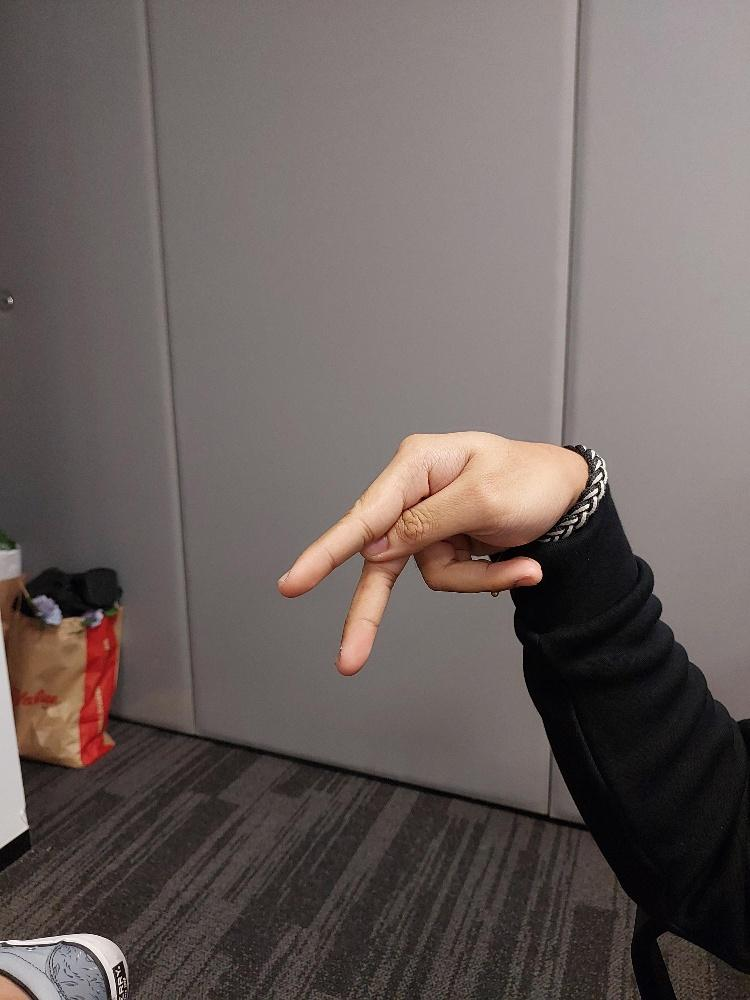p: (275, 430, 593, 677)
